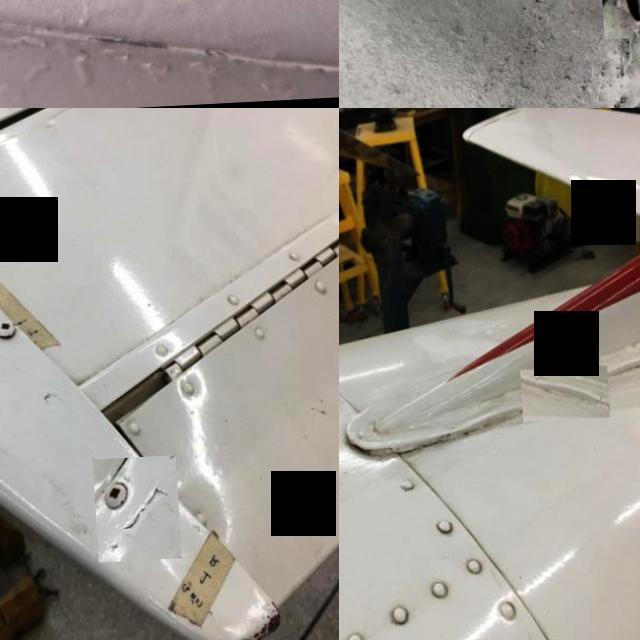Crack: (339, 399, 509, 475), (88, 460, 176, 567), (516, 372, 606, 426), (598, 0, 640, 44)
